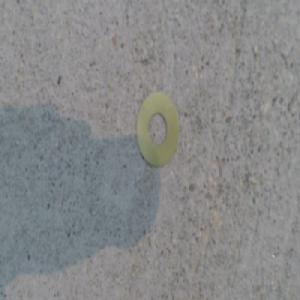Washer: (135, 91, 180, 169)
